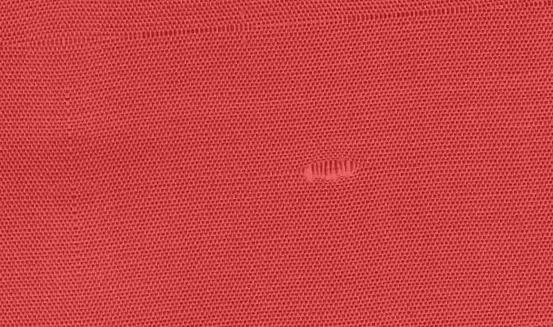slub: (299, 156, 366, 183)
